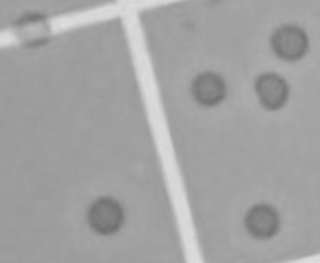cell: (82, 192, 130, 237), (9, 8, 54, 53), (187, 67, 231, 112), (266, 21, 312, 64), (239, 198, 284, 240), (251, 70, 292, 115)
